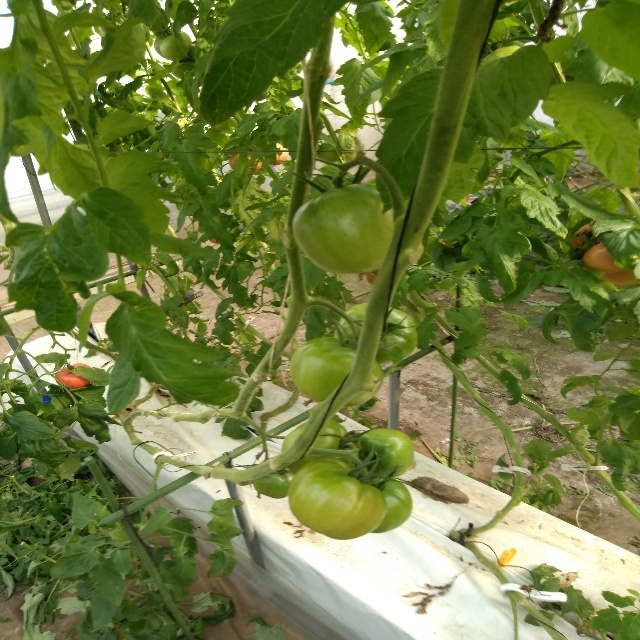b_green: (291, 181, 408, 275), (288, 456, 387, 540), (289, 335, 383, 407), (332, 301, 417, 365), (282, 419, 357, 474), (354, 428, 415, 477), (369, 474, 413, 534), (253, 466, 294, 499), (160, 36, 188, 61)
b_half_ripened: (55, 363, 93, 389)
